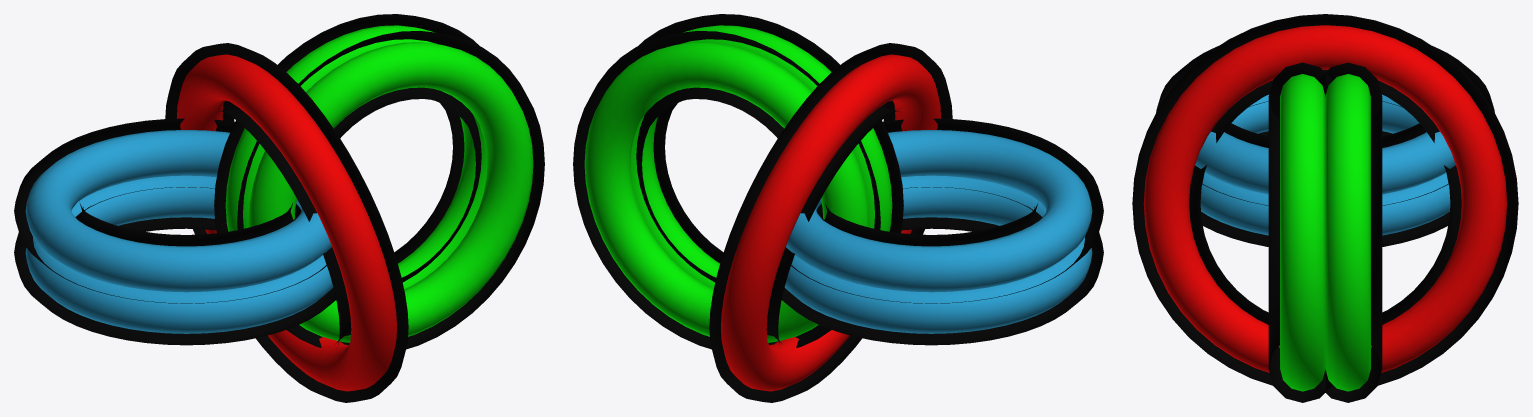
The model's file is bweg_step_03.glb.
3 views of the same model, side by side, from view 1: azimuth 30°, elevation 25°; view 2: azimuth 150°, elevation 25°; view 3: azimuth 270°, elevation 25° (orthographic).
Visible parts, largest first — view 1: Torus.009, Torus.011, Torus, Torus.001, Torus.008; view 2: Torus.008, Torus.011, Torus, Torus.001, Torus.009; view 3: Torus.011, Torus.008, Torus.009, Torus.001, Torus.
Part boxes in pixels (bbox=[...]): Torus.009: bbox=[237, 31, 544, 349]; Torus.011: bbox=[165, 43, 408, 402]; Torus: bbox=[14, 118, 335, 303]; Torus.001: bbox=[14, 175, 342, 345]; Torus.008: bbox=[214, 14, 487, 288]; Torus.008: bbox=[573, 31, 880, 349]; Torus.011: bbox=[709, 43, 952, 402]; Torus: bbox=[782, 118, 1103, 303]; Torus.001: bbox=[775, 175, 1103, 345]; Torus.009: bbox=[630, 14, 903, 288]; Torus.011: bbox=[1132, 14, 1518, 385]; Torus.008: bbox=[1318, 62, 1382, 402]; Torus.009: bbox=[1268, 62, 1332, 402]; Torus.001: bbox=[1200, 94, 1450, 246]; Torus: bbox=[1156, 46, 1494, 205].
Bounding box in the file's own units: 4.94 × 3.3 × 3.4.
